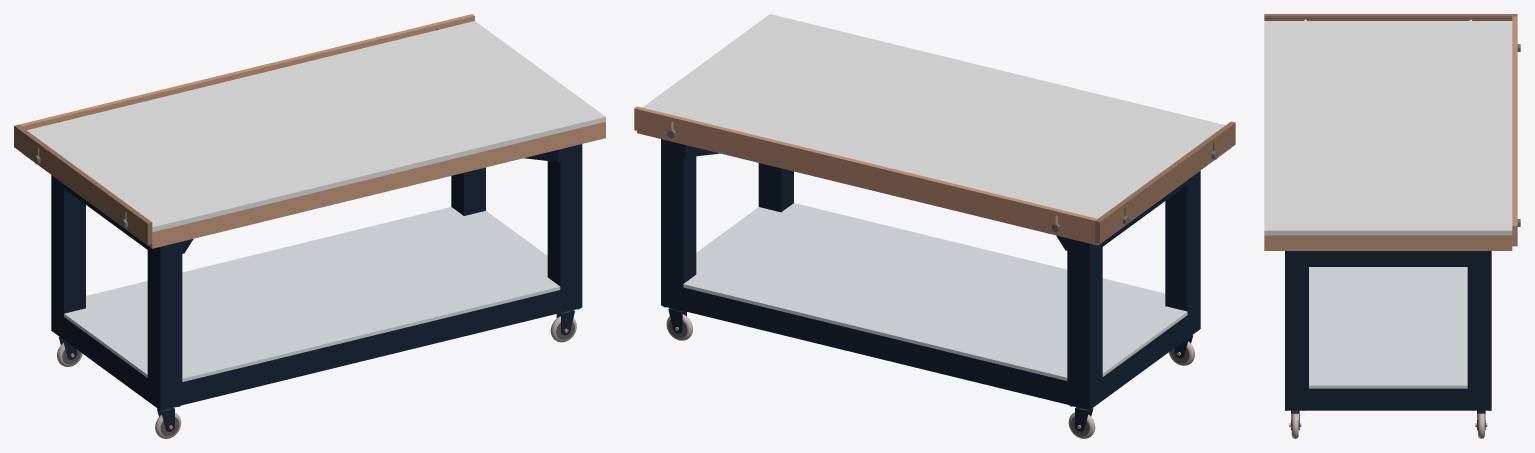
File: workbench.fbx
3 views of the same model, side by side, from view 1: azimuth 30°, elevation 25°; view 2: azimuth 150°, elevation 25°; view 3: azimuth 270°, elevation 25° (orthographic). The views are drawn at different scales.
Visible parts, largest first — view 1: Component#3_001, Component#13_001, Stretcher #1_001, Component#5_001, Component#43_001, Component#43_002, Component#10_001, Component#45_001, Component#46_001, Component#6_001, Component#10_002, Component#44_001; view 2: Component#3_001, Component#13_001, Component#45_001, Stretcher #1_002, Component#10_001, Component#10_002, Component#43_001, Component#46_001, Component#6_001, Component#43_002, Component#5_002, Component#44_001; view 3: Component#3_001, Component#13_001, Component#6_002, Component#4_004, Component#44_002, Component#10_002, Component#43_002, Component#46_001, Component#45_001.
Part boxes in pixels (x1,y1,x2,y2): Component#3_001: (27,21,605,232); Component#13_001: (64,207,560,381); Stretcher #1_001: (182,290,560,404); Component#5_001: (147,121,605,248); Component#43_001: (147,243,182,408); Component#43_002: (547,146,582,311); Component#10_001: (51,179,85,316); Component#45_001: (19,14,474,130); Component#46_001: (14,124,152,244); Component#6_001: (51,308,182,410); Component#10_002: (451,167,485,215); Component#44_001: (51,175,167,259); Component#3_001: (642,14,1225,218); Component#13_001: (683,203,1187,380); Component#45_001: (634,106,1097,242); Stretcher #1_002: (683,287,1067,404); Component#10_001: (1067,240,1102,408); Component#10_002: (661,141,696,308); Component#43_001: (1165,175,1200,314); Component#46_001: (1095,121,1235,243); Component#6_001: (1067,306,1200,409); Component#43_002: (758,163,793,212); Component#5_002: (637,131,1102,245); Component#44_001: (1082,171,1200,256); Component#3_001: (1264,21,1512,235); Component#13_001: (1309,267,1467,388); Component#6_002: (1285,388,1491,410); Component#4_004: (1285,235,1491,250); Component#44_002: (1285,251,1491,266); Component#10_002: (1467,267,1491,388); Component#43_002: (1285,267,1308,388); Component#46_001: (1264,14,1517,20); Component#45_001: (1512,16,1517,246).
Bounding box in the file's own units: 186 × 90.85 × 94.52.
